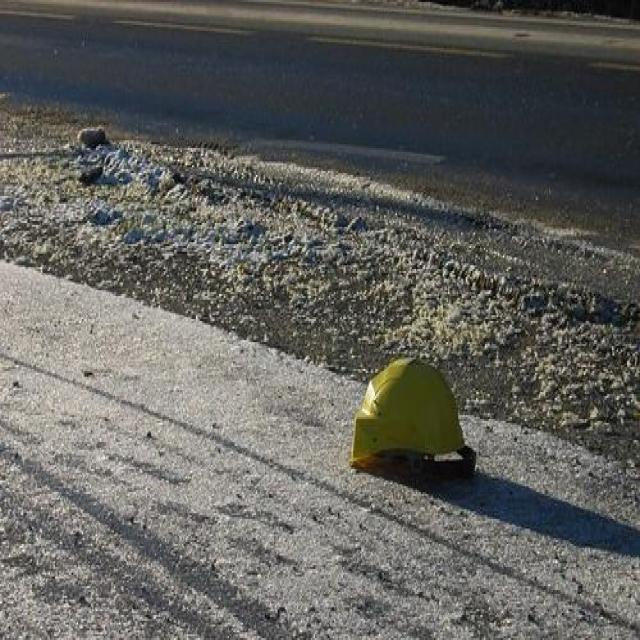Safety-Helmet: (339, 341, 477, 501)
